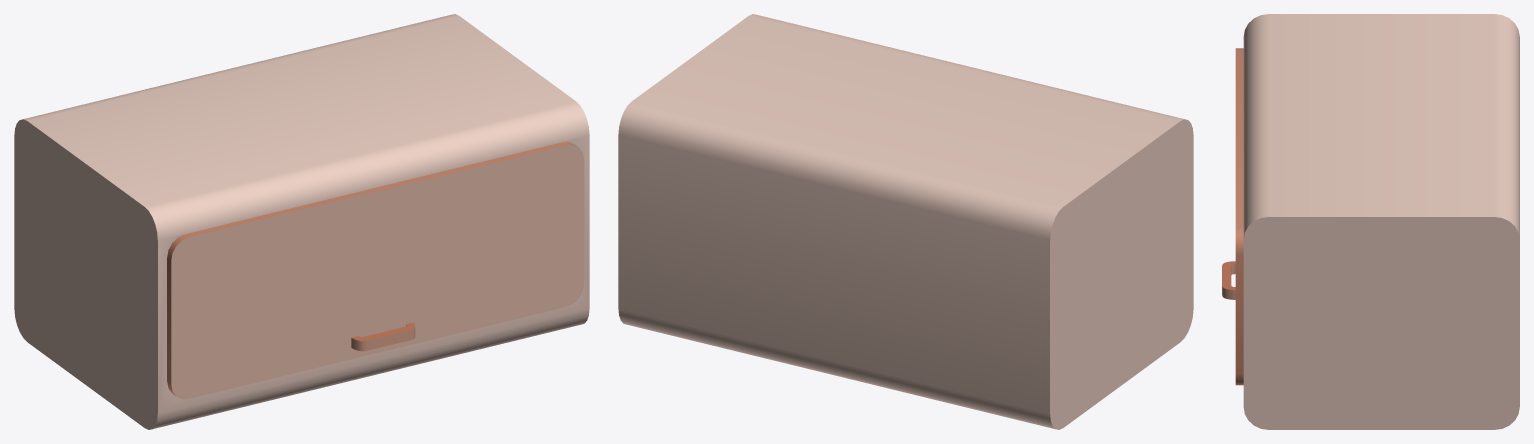
The model's file is Cupboard C.fbx.
The picture shows the model from 3 angles, left to right: view 1: azimuth 30°, elevation 25°; view 2: azimuth 150°, elevation 25°; view 3: azimuth 270°, elevation 25°; orthographic projection. The views are drawn at different scales.
Parts seen in each view (by area): view 1: Cupboard.013, Cupboard.014; view 2: Cupboard.013; view 3: Cupboard.013, Cupboard.014.
Part boxes in pixels (box(x1,y1,x2,y2)): Cupboard.013: box(14, 14, 589, 429); Cupboard.014: box(167, 142, 584, 399); Cupboard.013: box(618, 14, 1193, 429); Cupboard.013: box(1243, 14, 1519, 429); Cupboard.014: box(1222, 48, 1243, 385).
Size of the model in its own units: 2.87 by 1.4 by 1.78.
